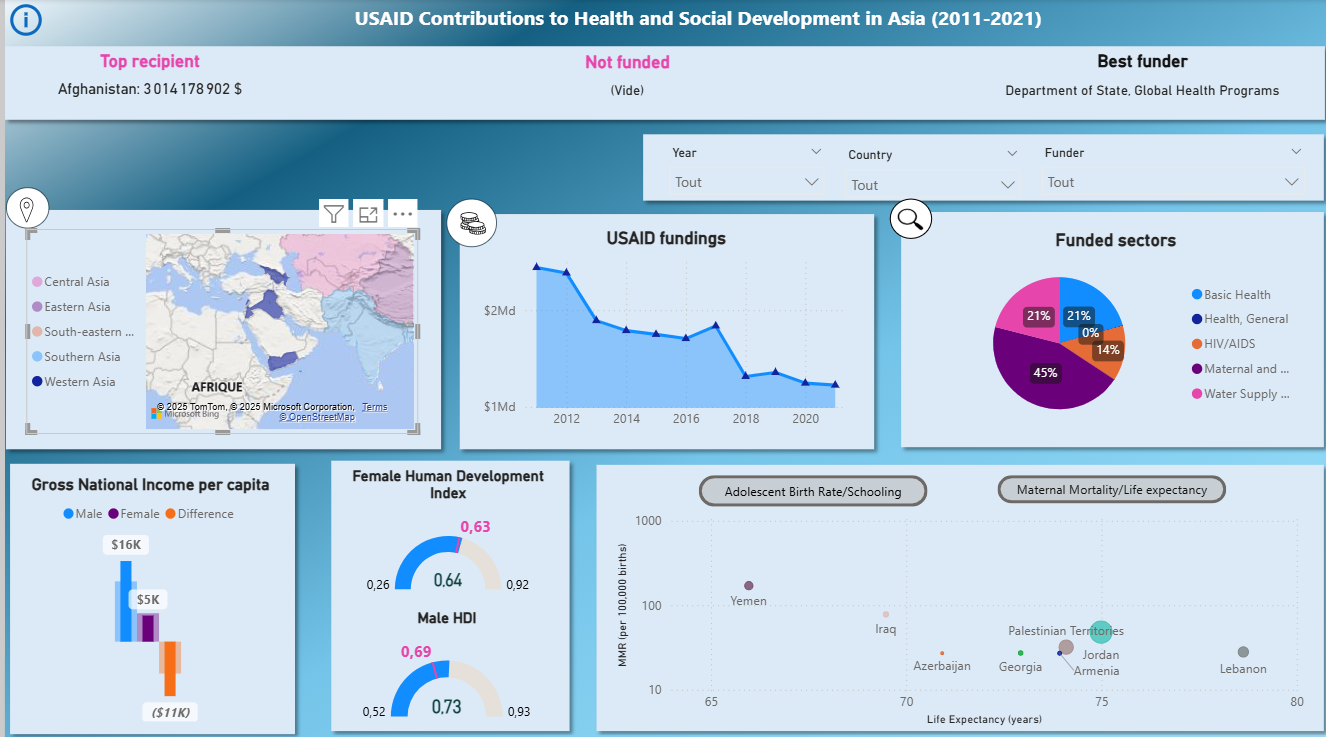

The page's visual inventory and layout, read from the dashboard file:
{"tool":"powerbi","page":{"name":"Dashboard","canvas":[1280,720],"ordinal":1},"visuals":[{"type":"shape","box":[573.6,451.5,695.7,258],"z":0},{"type":"shape","box":[320.8,452.6,222.3,258],"z":1000},{"type":"shape","box":[5.5,451.5,275.8,258],"z":2000},{"type":"shape","box":[863.1,209.9,406.2,225],"z":4000},{"type":"shape","box":[442.7,211.6,396.6,223.7],"z":5000},{"type":"shape","box":[5.5,209.9,414.4,225],"z":6000},{"type":"scatterChart","fields":{"Y":["Avg(indicators.Maternal Mortality Ratio )"],"Size":["Sum(usaid_budget.constant_amount)"],"Series":["usaid_country.Country"],"X":["Avg(indicators.Life Expectancy at Birth )"]},"box":[584.6,489.9,673.8,216.8],"z":9000},{"type":"filledMap","fields":{"Series":["indicators.sub-region"],"Category":["usaid_country.country"]},"box":[20.6,222.3,378.7,197.6],"z":10000},{"type":"slicer","fields":{"Values":["usaid_country.country"]},"box":[801.4,138.6,189.4,54.9],"z":11000},{"type":"card","title":"Top recipient","fields":{"Values":["Mesures.max_budget"]},"box":[33.8,49.5,212.3,57.9],"z":12000},{"type":"card","title":"Best funder","fields":{"Values":["Mesures.Max_Funder"]},"box":[937.2,49.4,321.1,61.7],"z":13000},{"type":"slicer","fields":{"Values":["usaid_budget.Funding Account Name"]},"box":[990.7,140,273.1,54.9],"z":14000},{"type":"lineChart","title":"USAID fundings","fields":{"Category":["DateTable.Date.Variation.Hiérarchie de dates.Année"],"Y":["Mesures.Total Budget"]},"box":[457.8,221.2,362.3,203.1],"z":15000},{"type":"textbox","box":[163.3,0,1012.7,37],"z":16000},{"type":"lineClusteredColumnComboChart","title":"Gross National Income per capita","fields":{"Y":["Avg(indicators.Gross National Income Per Capita, male )","Avg(indicators.Gross National Income Per Capita, female )","Mesures.diff_GNI"]},"box":[15.1,459.7,249.7,242.9],"z":17000},{"type":"slicer","fields":{"Values":["DateTable.Annee"]},"box":[631.2,138.6,170.2,56.3],"z":18000},{"type":"card","title":"Not funded","fields":{"Values":["Mesures.Min_Budget"]},"box":[281.3,50.8,639.5,57.6],"z":19000},{"type":"pieChart","title":"Funded sectors","fields":{"Category":["usaid_budget.International Sector Name"],"Y":["Mesures.Total Budget"]},"box":[885.1,222.3,373.2,201.7],"z":20000},{"type":"gauge","title":"Female Human Development Index","fields":{"MinValue":["Mesures.HDI_female_MIN_allCountries"],"MaxValue":["Mesures.HDI_female_MAX_allCountries"],"Y":["Mesures.HDI_female_AVG"],"TargetValue":["Avg(HDItable.HDI_female)"]},"box":[321.6,451.8,211.3,128.6],"z":21000},{"type":"gauge","title":"Male HDI","fields":{"Y":["Mesures.HDI_male_AVG"],"MinValue":["Mesures.HDI_male_MIN_allCountries"],"MaxValue":["Mesures.HDI_male_MAX_allCountries"],"TargetValue":["Avg(HDItable.HDI_male)"]},"box":[321.1,588.7,211.3,113.9],"z":22000},{"type":"actionButton","box":[669.6,459.7,220.9,30.2],"z":23000},{"type":"actionButton","box":[957.8,459.7,220.9,27.4],"z":24000},{"type":"actionButton","box":[0,0,48.6,40.5],"z":25000}]}

Visuals, with their boxes in screenshot pixels (x1, y1, x2, y2), scaled from the page's 1280x720 canvas onto the 1326x737 screenshot:
shape: 594 462 1315 726
shape: 332 463 563 727
shape: 6 462 291 726
shape: 894 215 1315 445
shape: 459 217 869 446
shape: 6 215 435 445
scatterChart - Avg(indicators.Maternal Mortality Ratio ) x Sum(usaid_budget.constant_amount): 606 501 1304 723
filledMap - indicators.sub-region x usaid_country.country: 21 228 414 430
slicer - usaid_country.country: 830 142 1026 198
"Top recipient" card: 35 51 255 110
"Best funder" card: 971 51 1304 114
slicer - usaid_budget.Funding Account Name: 1026 143 1309 200
"USAID fundings" lineChart: 474 226 850 434
textbox: 169 0 1218 38
"Gross National Income per capita" lineClusteredColumnComboChart: 16 471 274 719
slicer - DateTable.Annee: 654 142 830 200
"Not funded" card: 291 52 954 111
"Funded sectors" pieChart: 917 228 1304 434
"Female Human Development Index" gauge: 333 462 552 594
"Male HDI" gauge: 333 603 552 719
actionButton: 694 471 923 501
actionButton: 992 471 1221 499
actionButton: 0 0 50 41
